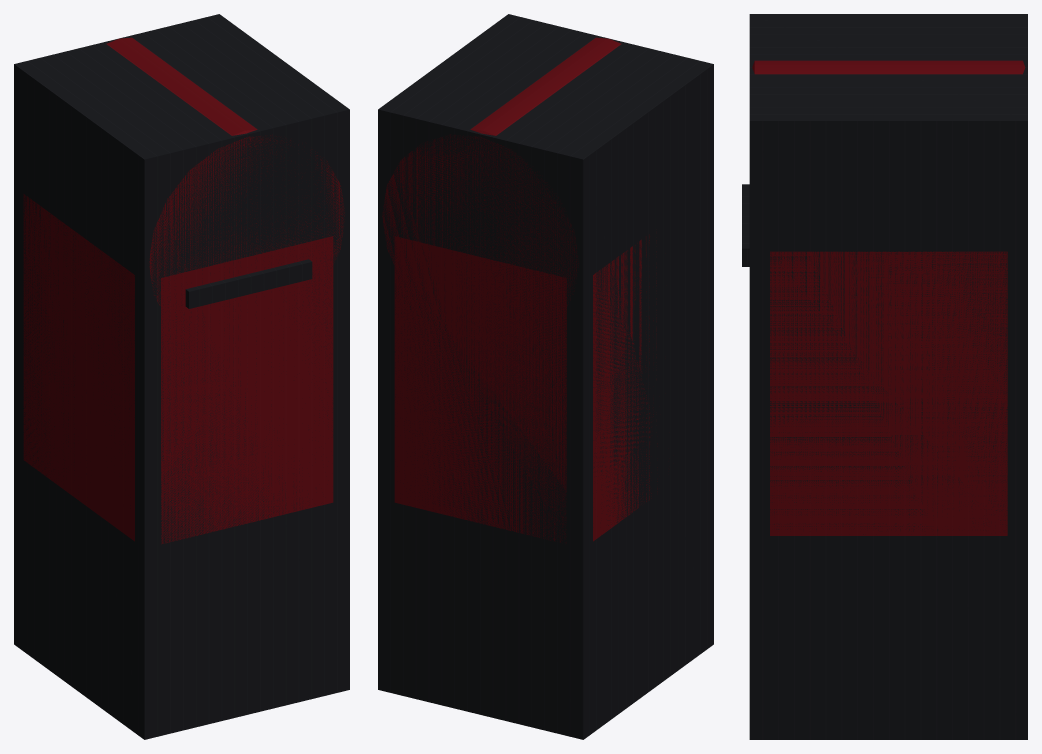
The model's file is kit_mailbox.glb.
3 renders of one model, left to right at view 1: azimuth 30°, elevation 25°; view 2: azimuth 150°, elevation 25°; view 3: azimuth 270°, elevation 25°, orthographic. The views are drawn at different scales.
Visible parts, largest first — view 1: mb_COL, mb_body, mb_top, mb_slot; view 2: mb_COL, mb_body, mb_top; view 3: mb_COL, mb_body, mb_top, mb_slot.
Part boxes in pixels (x1,y1,x2,y2): mb_COL: (14, 14, 349, 739); mb_body: (23, 194, 333, 544); mb_top: (106, 37, 344, 343); mb_slot: (185, 259, 312, 308); mb_COL: (378, 14, 713, 739); mb_body: (394, 234, 657, 543); mb_top: (382, 37, 621, 345); mb_COL: (749, 14, 1027, 739); mb_body: (770, 251, 1007, 535); mb_top: (752, 60, 1025, 74); mb_slot: (742, 184, 749, 266).
Size of the model in its own units: 0.5 by 1.36 by 0.565.
Materials: 3 (3 with a texture image).
